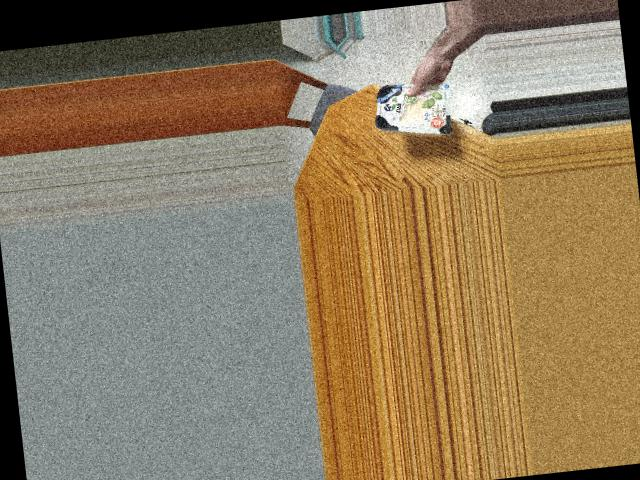cheese: (373, 81, 447, 133)
